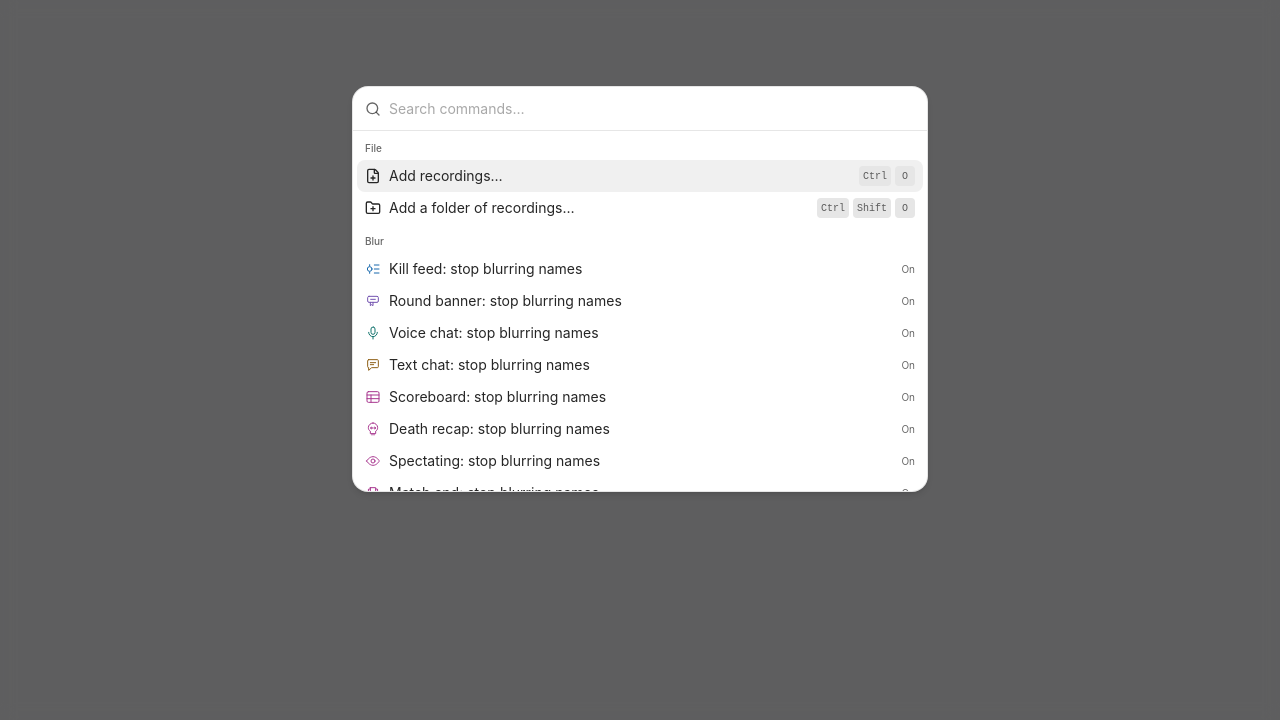
command palette › switches a region's blur for the defaults when no file is selected
The image size is (1280, 720).
Click the option "Kill feed: stop blurring names On".
click(486, 269)  # box [365,260,915,277]
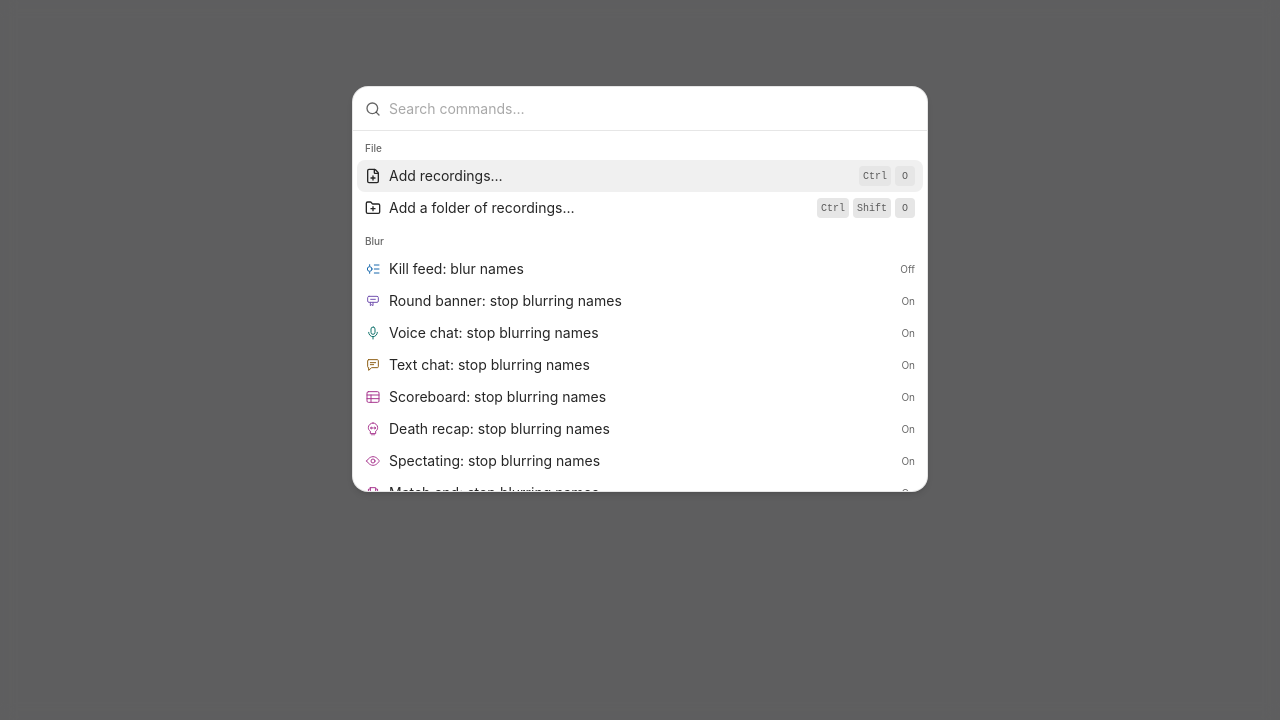
Now the option "Kill feed: blur names Off" is shown, box [365,260,915,277]
